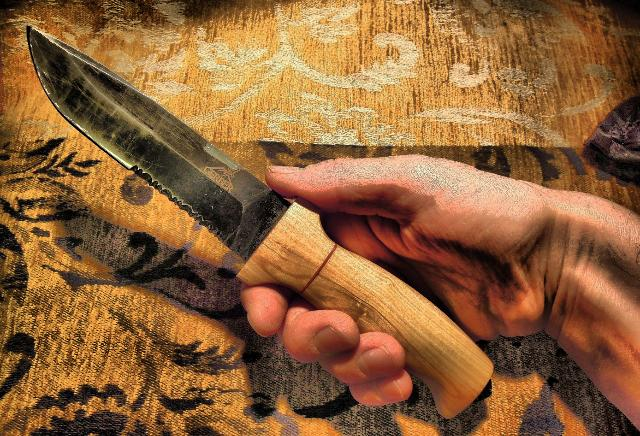knife: (21, 15, 502, 428)
